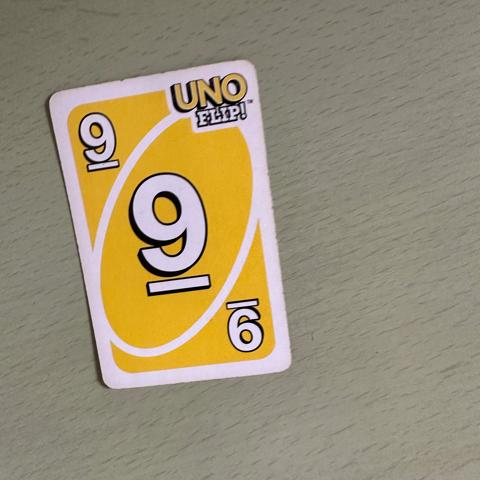3_yellow: (127, 172, 214, 298), (76, 115, 124, 173), (224, 295, 264, 354)
